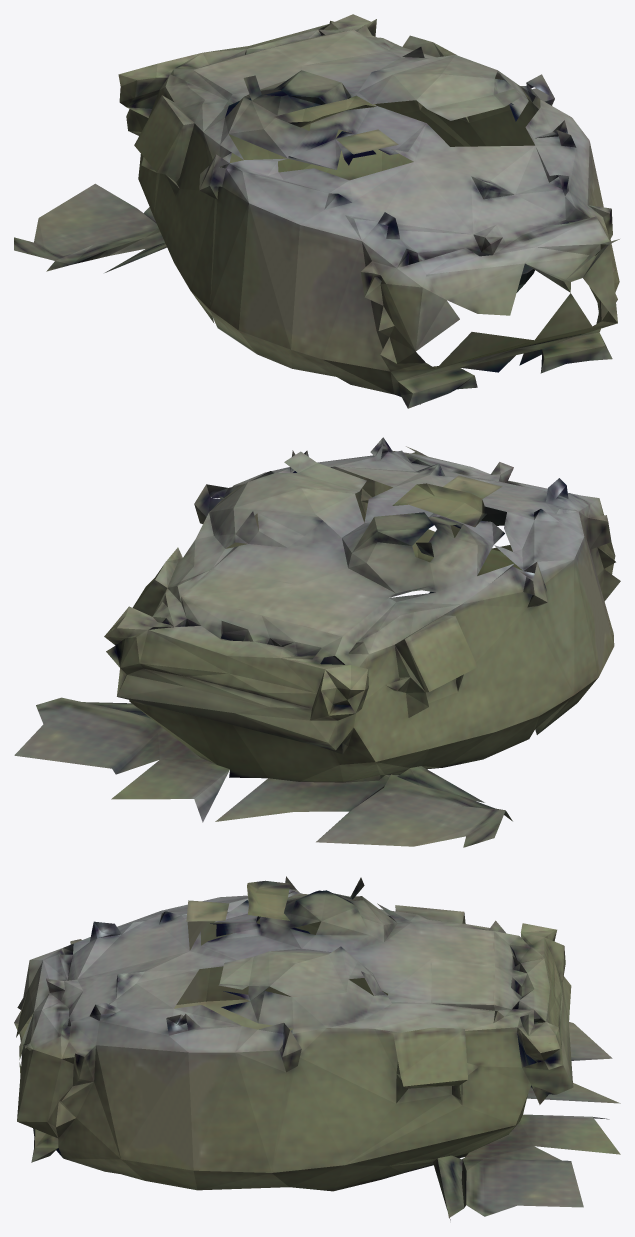
File: easy8_turret.obj
The picture shows the model from 3 angles, top to bottom: view 1: azimuth 30°, elevation 25°; view 2: azimuth 150°, elevation 25°; view 3: azimuth 270°, elevation 25°; orthographic projection. The views are drawn at different scales.
Visible parts, largest first — view 1: easy8_turret; view 2: easy8_turret; view 3: easy8_turret.
Part boxes in pixels (x1,y1,x2,y2): easy8_turret: [14, 14, 619, 408]; easy8_turret: [14, 437, 620, 847]; easy8_turret: [14, 876, 620, 1220].
Bounding box in the file's own units: 3.08 × 1.31 × 3.56.
1 material, 1 textured.
